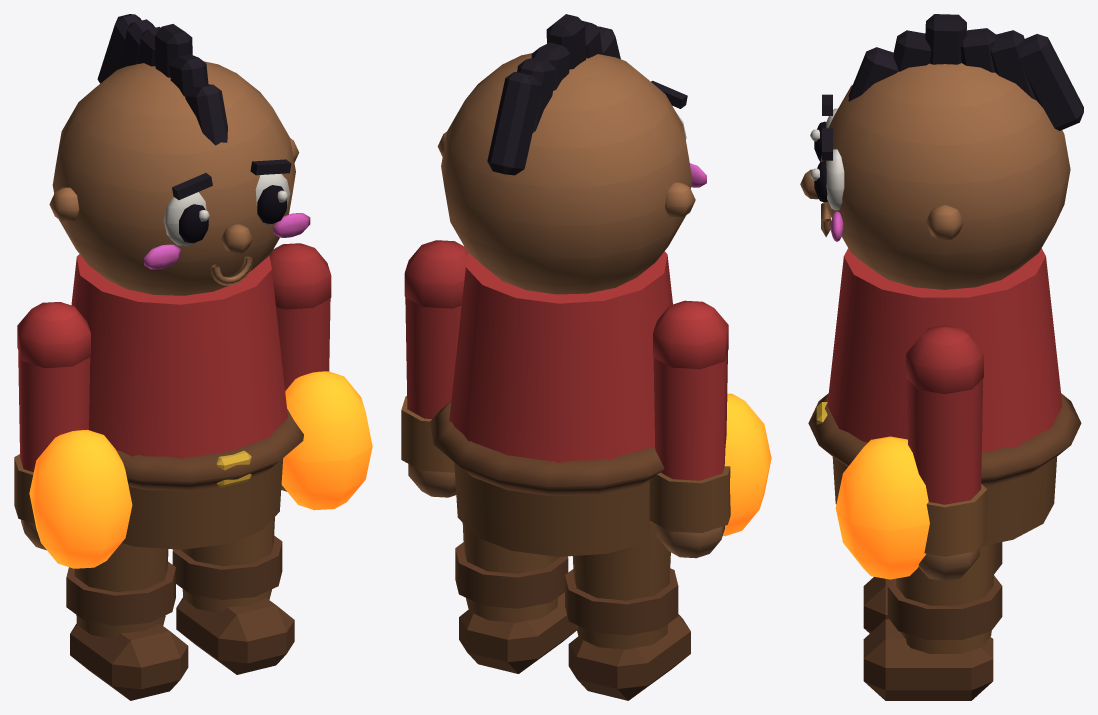
The model's file is hero_blaze.glb.
3 views of the same model, side by side, from view 1: azimuth 30°, elevation 25°; view 2: azimuth 150°, elevation 25°; view 3: azimuth 270°, elevation 25° (orthographic). The views are drawn at different scales.
Visible parts, largest first — view 1: body_t0_palette, legl_t0_palette, legr_t0_palette, arml_t0_palette, arml_t0_fire, armr_t0_fire, armr_t0_palette; view 2: body_t0_palette, arml_t0_palette, legl_t0_palette, legr_t0_palette, armr_t0_palette, arml_t0_fire; view 3: body_t0_palette, armr_t0_palette, legr_t0_palette, armr_t0_fire, legl_t0_palette.
Boxes of the visible parts, x1,y1,x2,y2 form: body_t0_palette: (49, 14, 310, 549); legl_t0_palette: (66, 543, 188, 700); legr_t0_palette: (172, 517, 294, 674); arml_t0_palette: (14, 302, 90, 550); arml_t0_fire: (29, 429, 132, 568); armr_t0_fire: (281, 371, 372, 510); armr_t0_palette: (269, 243, 331, 491); body_t0_palette: (430, 14, 706, 556); arml_t0_palette: (649, 300, 730, 558); legl_t0_palette: (565, 521, 690, 700); legr_t0_palette: (455, 523, 576, 673); armr_t0_palette: (401, 240, 468, 497); arml_t0_fire: (723, 393, 771, 536); body_t0_palette: (800, 14, 1083, 546); armr_t0_palette: (906, 325, 987, 581); legr_t0_palette: (863, 543, 1002, 700); armr_t0_fire: (835, 436, 929, 579); legl_t0_palette: (863, 542, 1002, 633).
Bounding box in the file's own units: 0.288 × 0.5233 × 0.2077.
